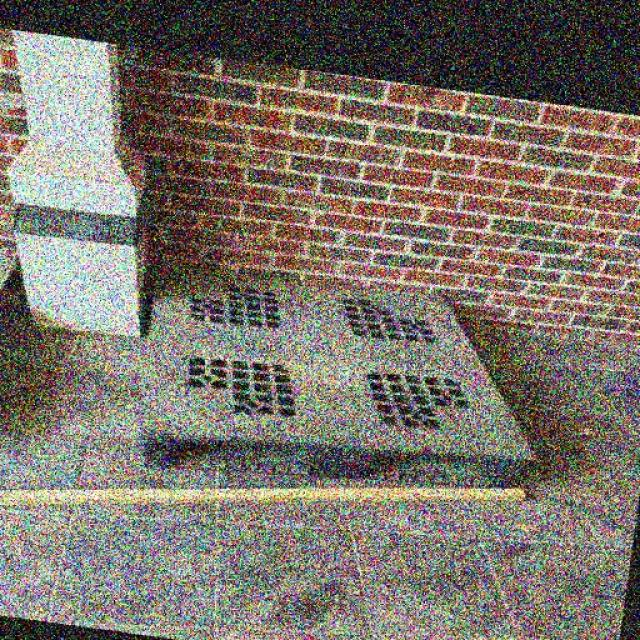non-igps: (127, 248, 546, 492)
